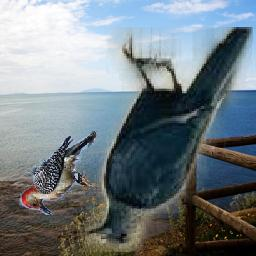Crow: (85, 28, 253, 253)
Woodpecker: (19, 131, 97, 215)
